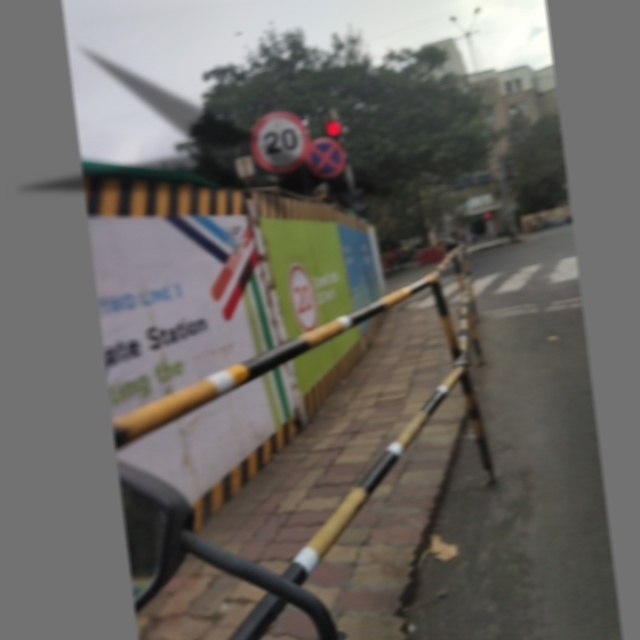Speed_Limit_20: (244, 107, 312, 173)
